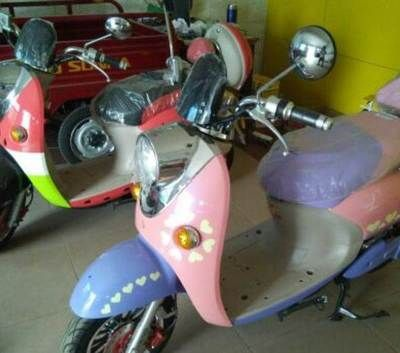non-vehicle: (61, 58, 397, 350), (3, 9, 255, 236)
